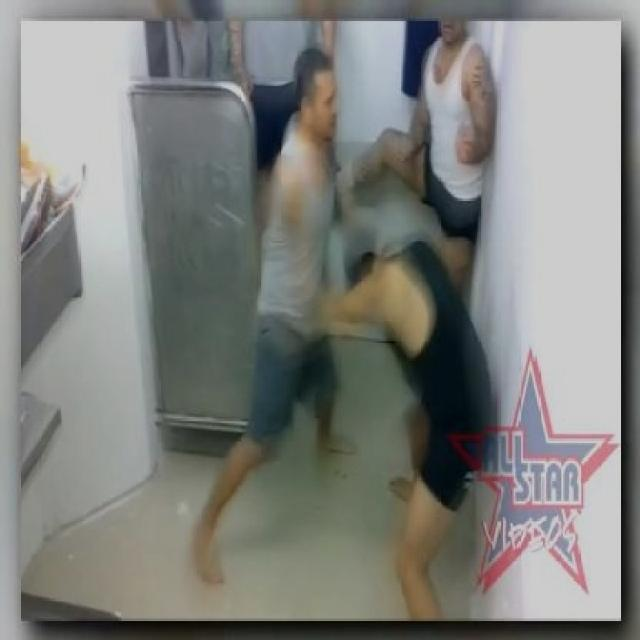fight: (188, 42, 500, 615), (326, 21, 500, 322)
